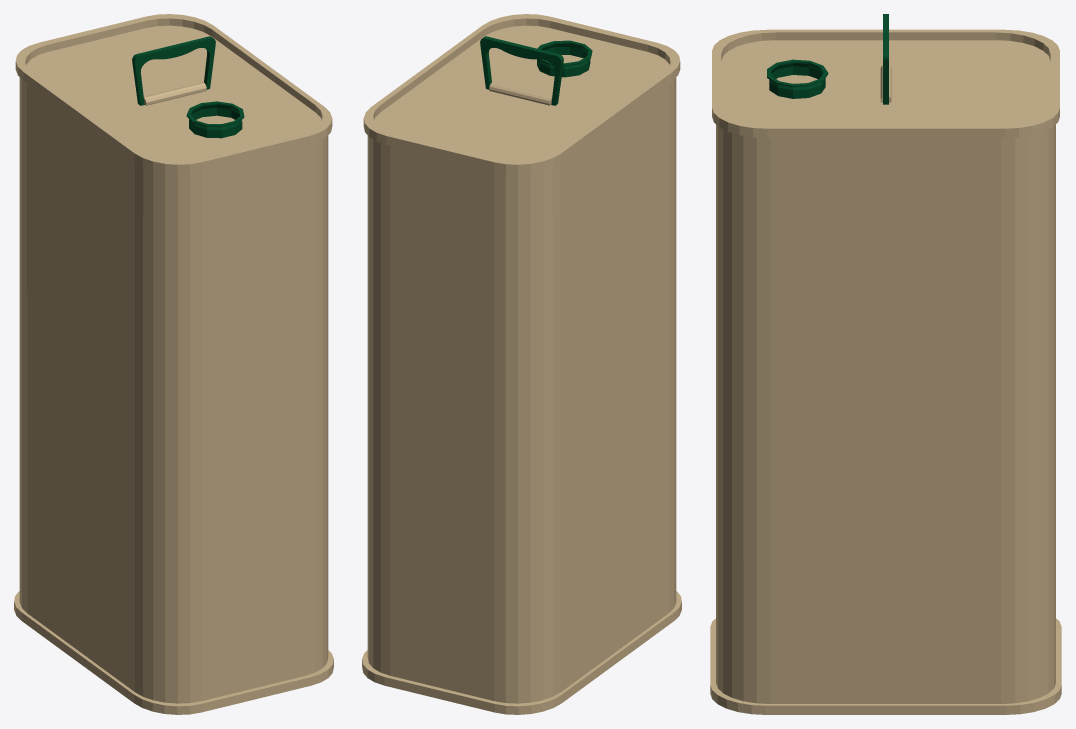
Rendered from Yağ Tenekesi.fbx.
The picture shows the model from 3 angles, left to right: view 1: azimuth 30°, elevation 25°; view 2: azimuth 150°, elevation 25°; view 3: azimuth 270°, elevation 25°; orthographic projection. The views are drawn at different scales.
Parts seen in each view (by area): view 1: Cube, Cube.001, Cylinder.001, Cylinder; view 2: Cube, Cube.001, Cylinder.001, Cylinder; view 3: Cube, Cylinder.001.
Boxes of the visible parts, x1=… form: Cube: x1=14, y1=14, x2=333, y2=714; Cube.001: x1=132, y1=36, x2=215, y2=105; Cylinder.001: x1=186, y1=101, x2=244, y2=138; Cylinder: x1=143, y1=82, x2=206, y2=105; Cube: x1=362, y1=14, x2=681, y2=714; Cube.001: x1=480, y1=36, x2=563, y2=105; Cylinder.001: x1=537, y1=40, x2=592, y2=77; Cylinder: x1=489, y1=82, x2=552, y2=105; Cube: x1=710, y1=29, x2=1061, y2=714; Cylinder.001: x1=767, y1=59, x2=828, y2=98.
Size of the model in its own units: 139 by 410 by 207.
